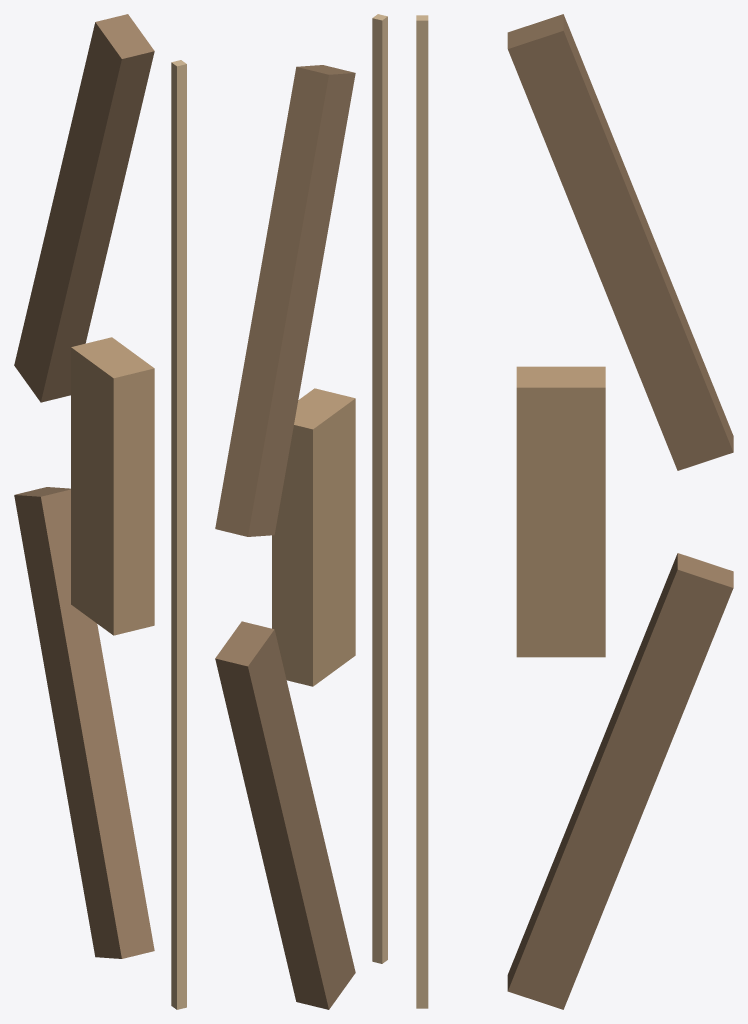
Rendered from bow.glb.
The picture shows the model from 3 angles, left to right: view 1: azimuth 30°, elevation 25°; view 2: azimuth 150°, elevation 25°; view 3: azimuth 270°, elevation 25°; orthographic projection. The views are drawn at different scales.
Parts seen in each view (by area): view 1: bow; view 2: bow; view 3: bow.
Boxes of the visible parts, bbox=[...] form: bow: bbox=[14, 14, 186, 1009]; bow: bbox=[215, 14, 387, 1009]; bow: bbox=[416, 14, 733, 1009].
Size of the model in its own units: 0.05 by 1.1 by 0.3199.
